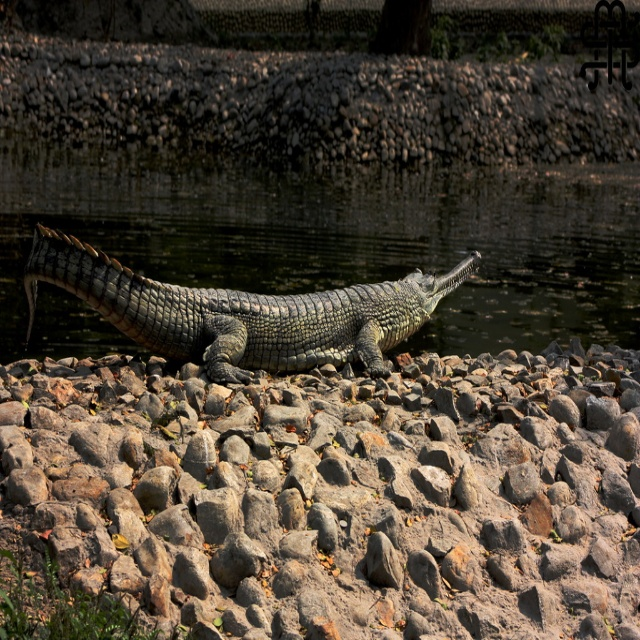Crocodile: (23, 222, 482, 384)
